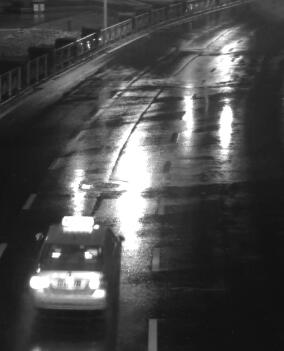car: (29, 215, 122, 313)
